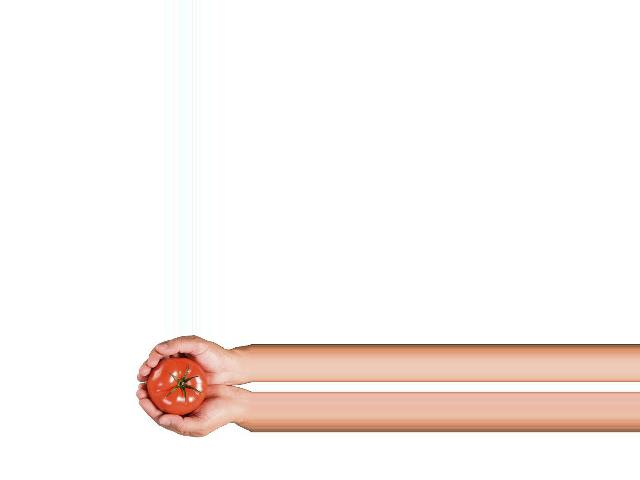tomato: (147, 357, 206, 415)
